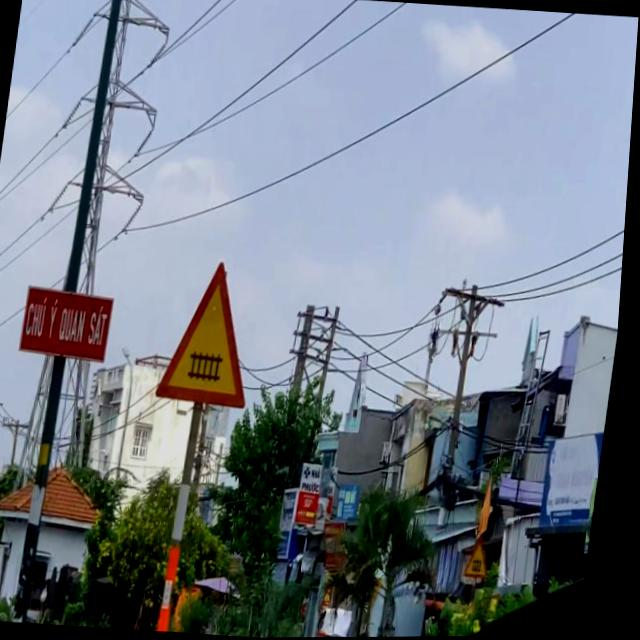Giao nhau voi duong sat co rao chan: (157, 256, 268, 411), (470, 537, 501, 580)
